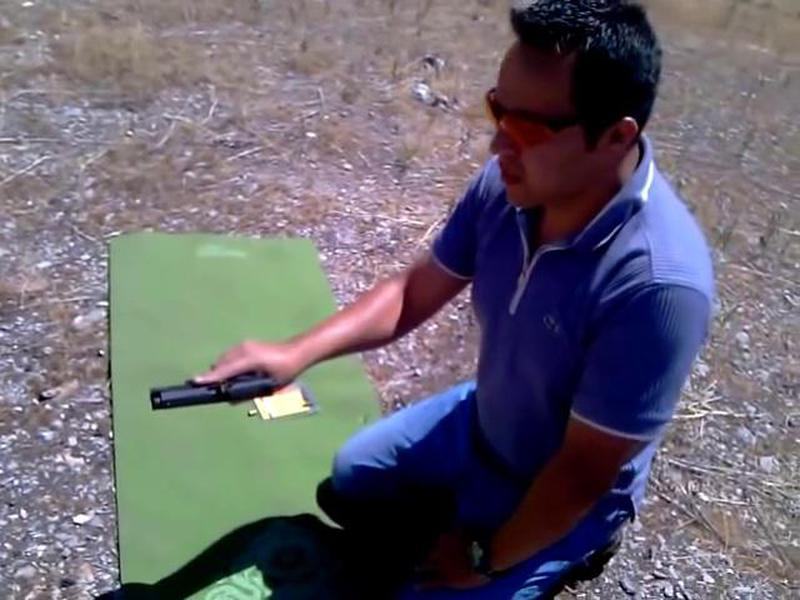Pistola: (135, 331, 282, 421)
